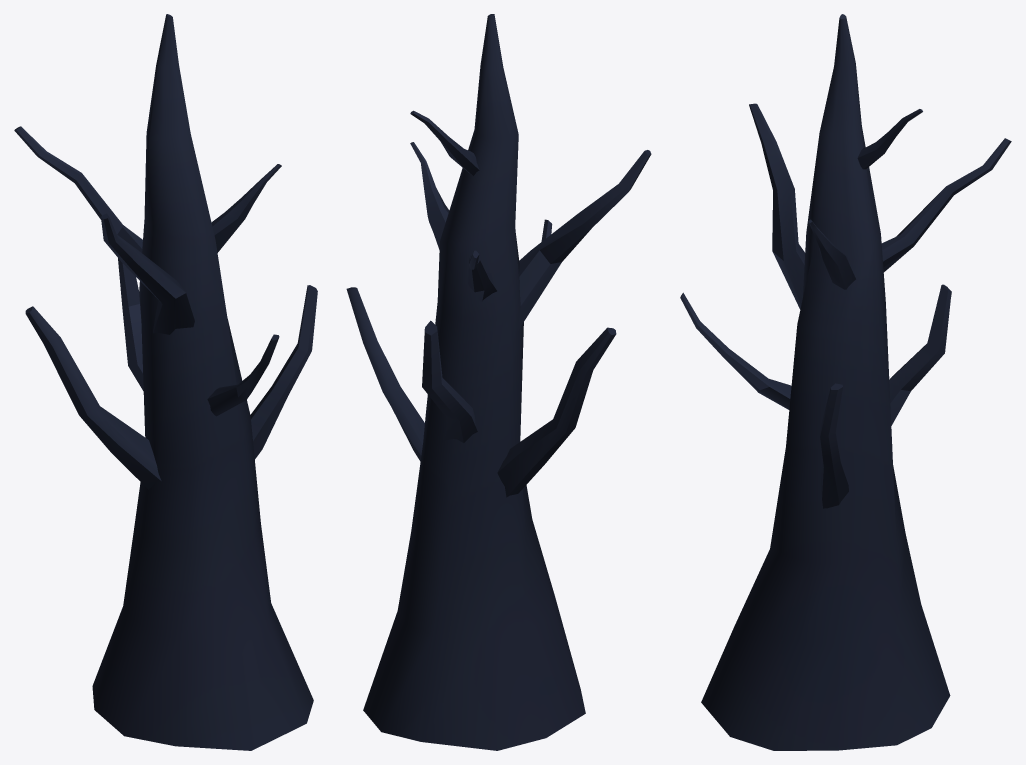
Rendered from small_tree01.FBX.
3 renders of one model, left to right at view 1: azimuth 30°, elevation 25°; view 2: azimuth 150°, elevation 25°; view 3: azimuth 270°, elevation 25°, orthographic. The views are drawn at different scales.
Visible parts, largest first — view 1: small_tree004; view 2: small_tree004; view 3: small_tree004.
Part boxes in pixels (x1,y1,x2,y2): small_tree004: (14, 14, 317, 750); small_tree004: (346, 14, 651, 750); small_tree004: (680, 14, 1011, 750).
Bounding box in the file's own units: 87 × 206 × 90.74.
